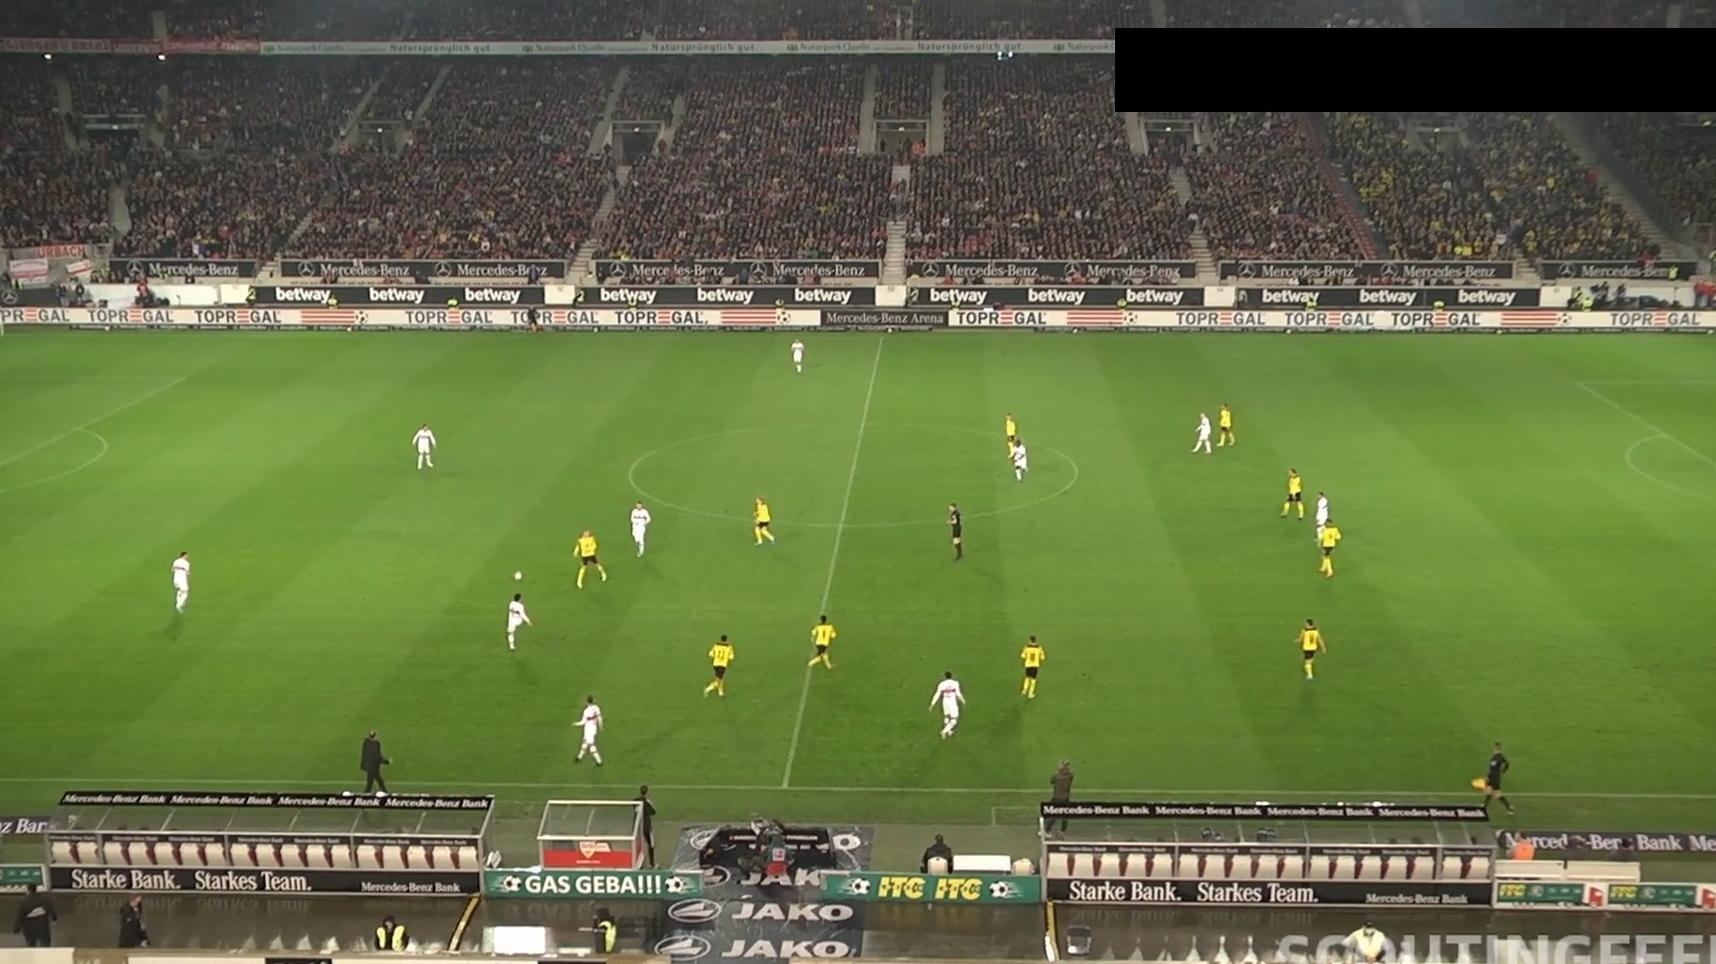ball: (513, 569, 523, 581)
